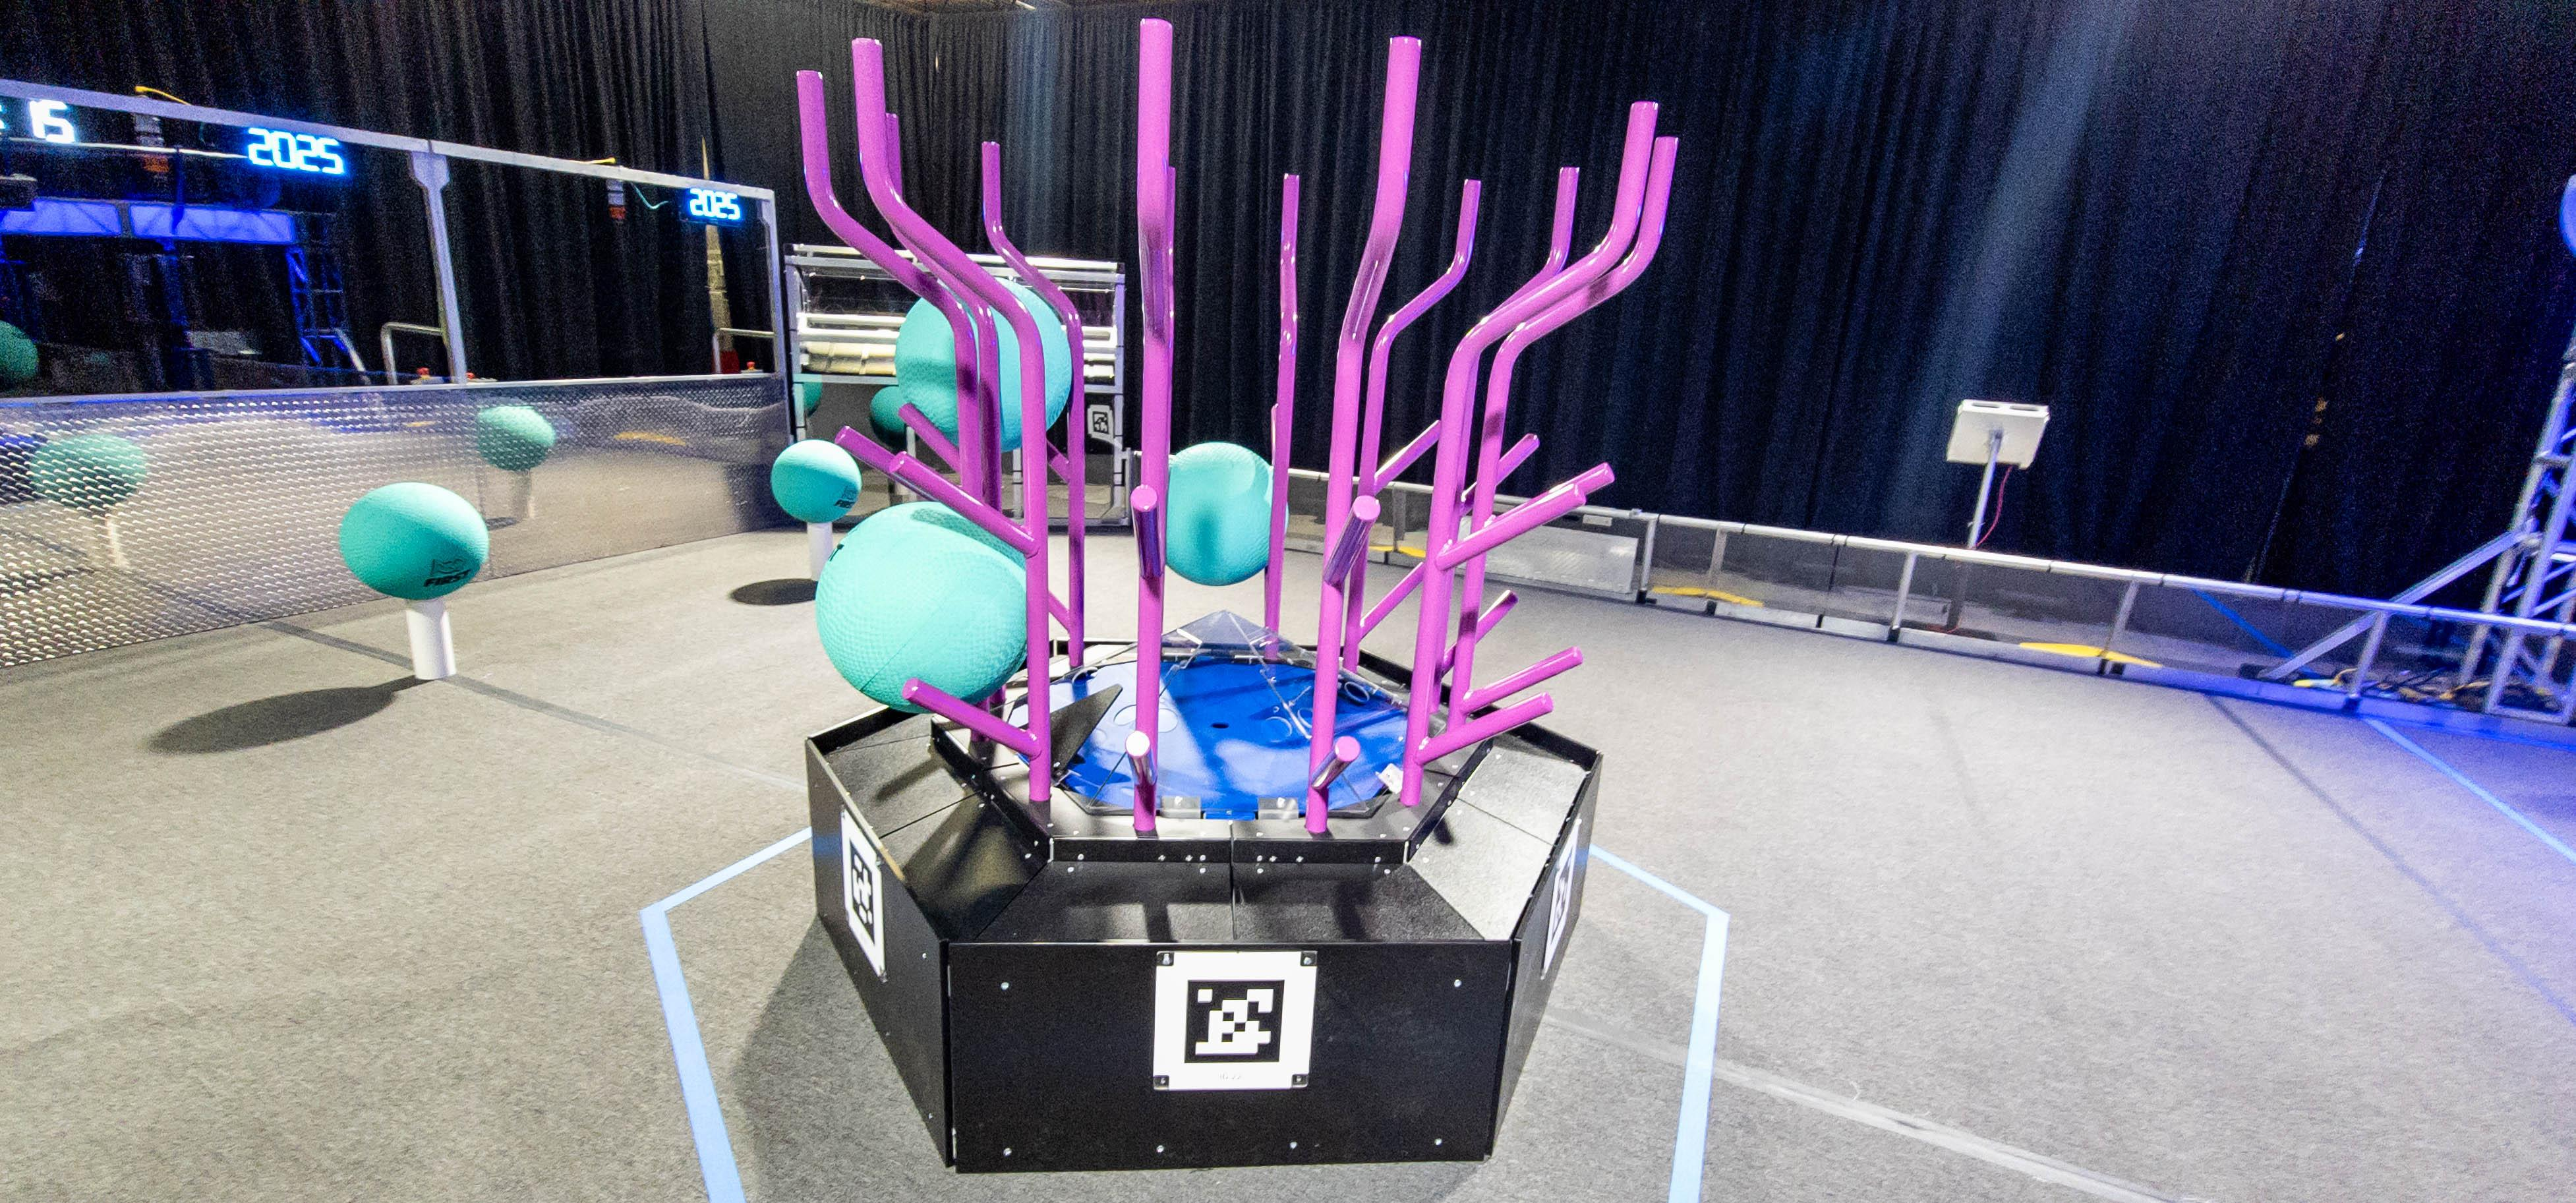ALGAE: (818, 503, 1028, 710), (899, 279, 1073, 455), (1165, 444, 1288, 585), (343, 482, 490, 598), (770, 439, 864, 521)
CORAL: (411, 592, 457, 684), (808, 523, 835, 585)
